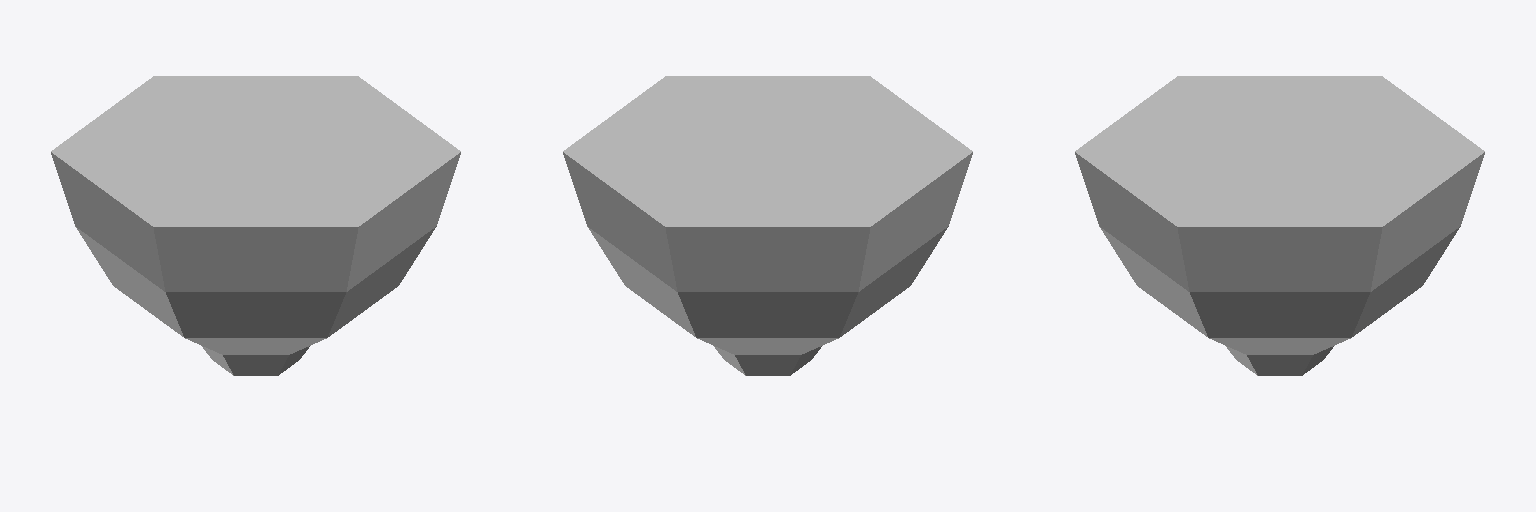
Rendered from lemon-half.obj.
3 renders of one model, left to right at view 1: azimuth 30°, elevation 25°; view 2: azimuth 150°, elevation 25°; view 3: azimuth 270°, elevation 25°, orthographic.
Parts seen in each view (by area): view 1: lemon-half; view 2: lemon-half; view 3: lemon-half.
Part boxes in pixels (bbox=[...]): lemon-half: bbox=[51, 76, 460, 375]; lemon-half: bbox=[563, 76, 972, 375]; lemon-half: bbox=[1075, 76, 1484, 375].
Size of the model in its own units: 0.1732 by 0.112 by 0.2.